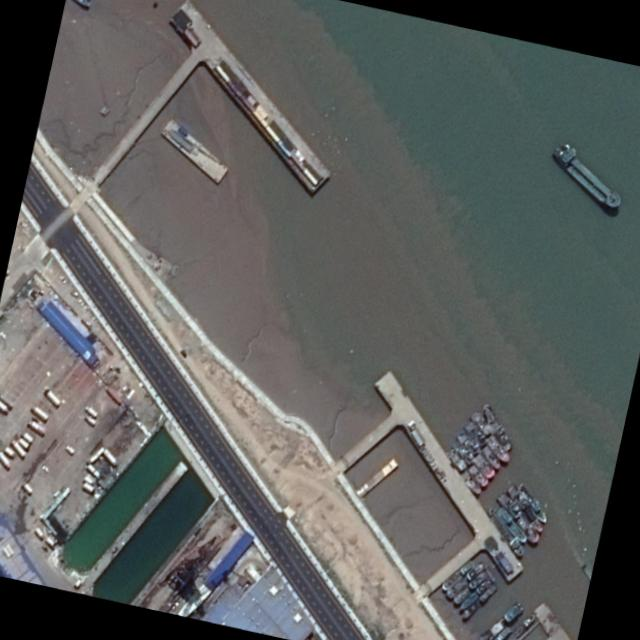ship: (550, 140, 622, 212), (160, 117, 227, 182), (496, 489, 540, 544), (468, 408, 511, 464), (454, 428, 497, 479), (485, 504, 525, 557), (461, 418, 501, 469), (505, 481, 543, 533), (475, 600, 524, 640), (445, 446, 482, 496), (451, 440, 488, 486), (479, 402, 511, 449), (445, 560, 484, 598), (516, 480, 547, 523), (451, 568, 487, 605), (460, 582, 496, 619), (496, 504, 527, 544), (459, 576, 492, 610), (440, 558, 474, 591), (506, 612, 534, 640), (492, 624, 511, 640)
